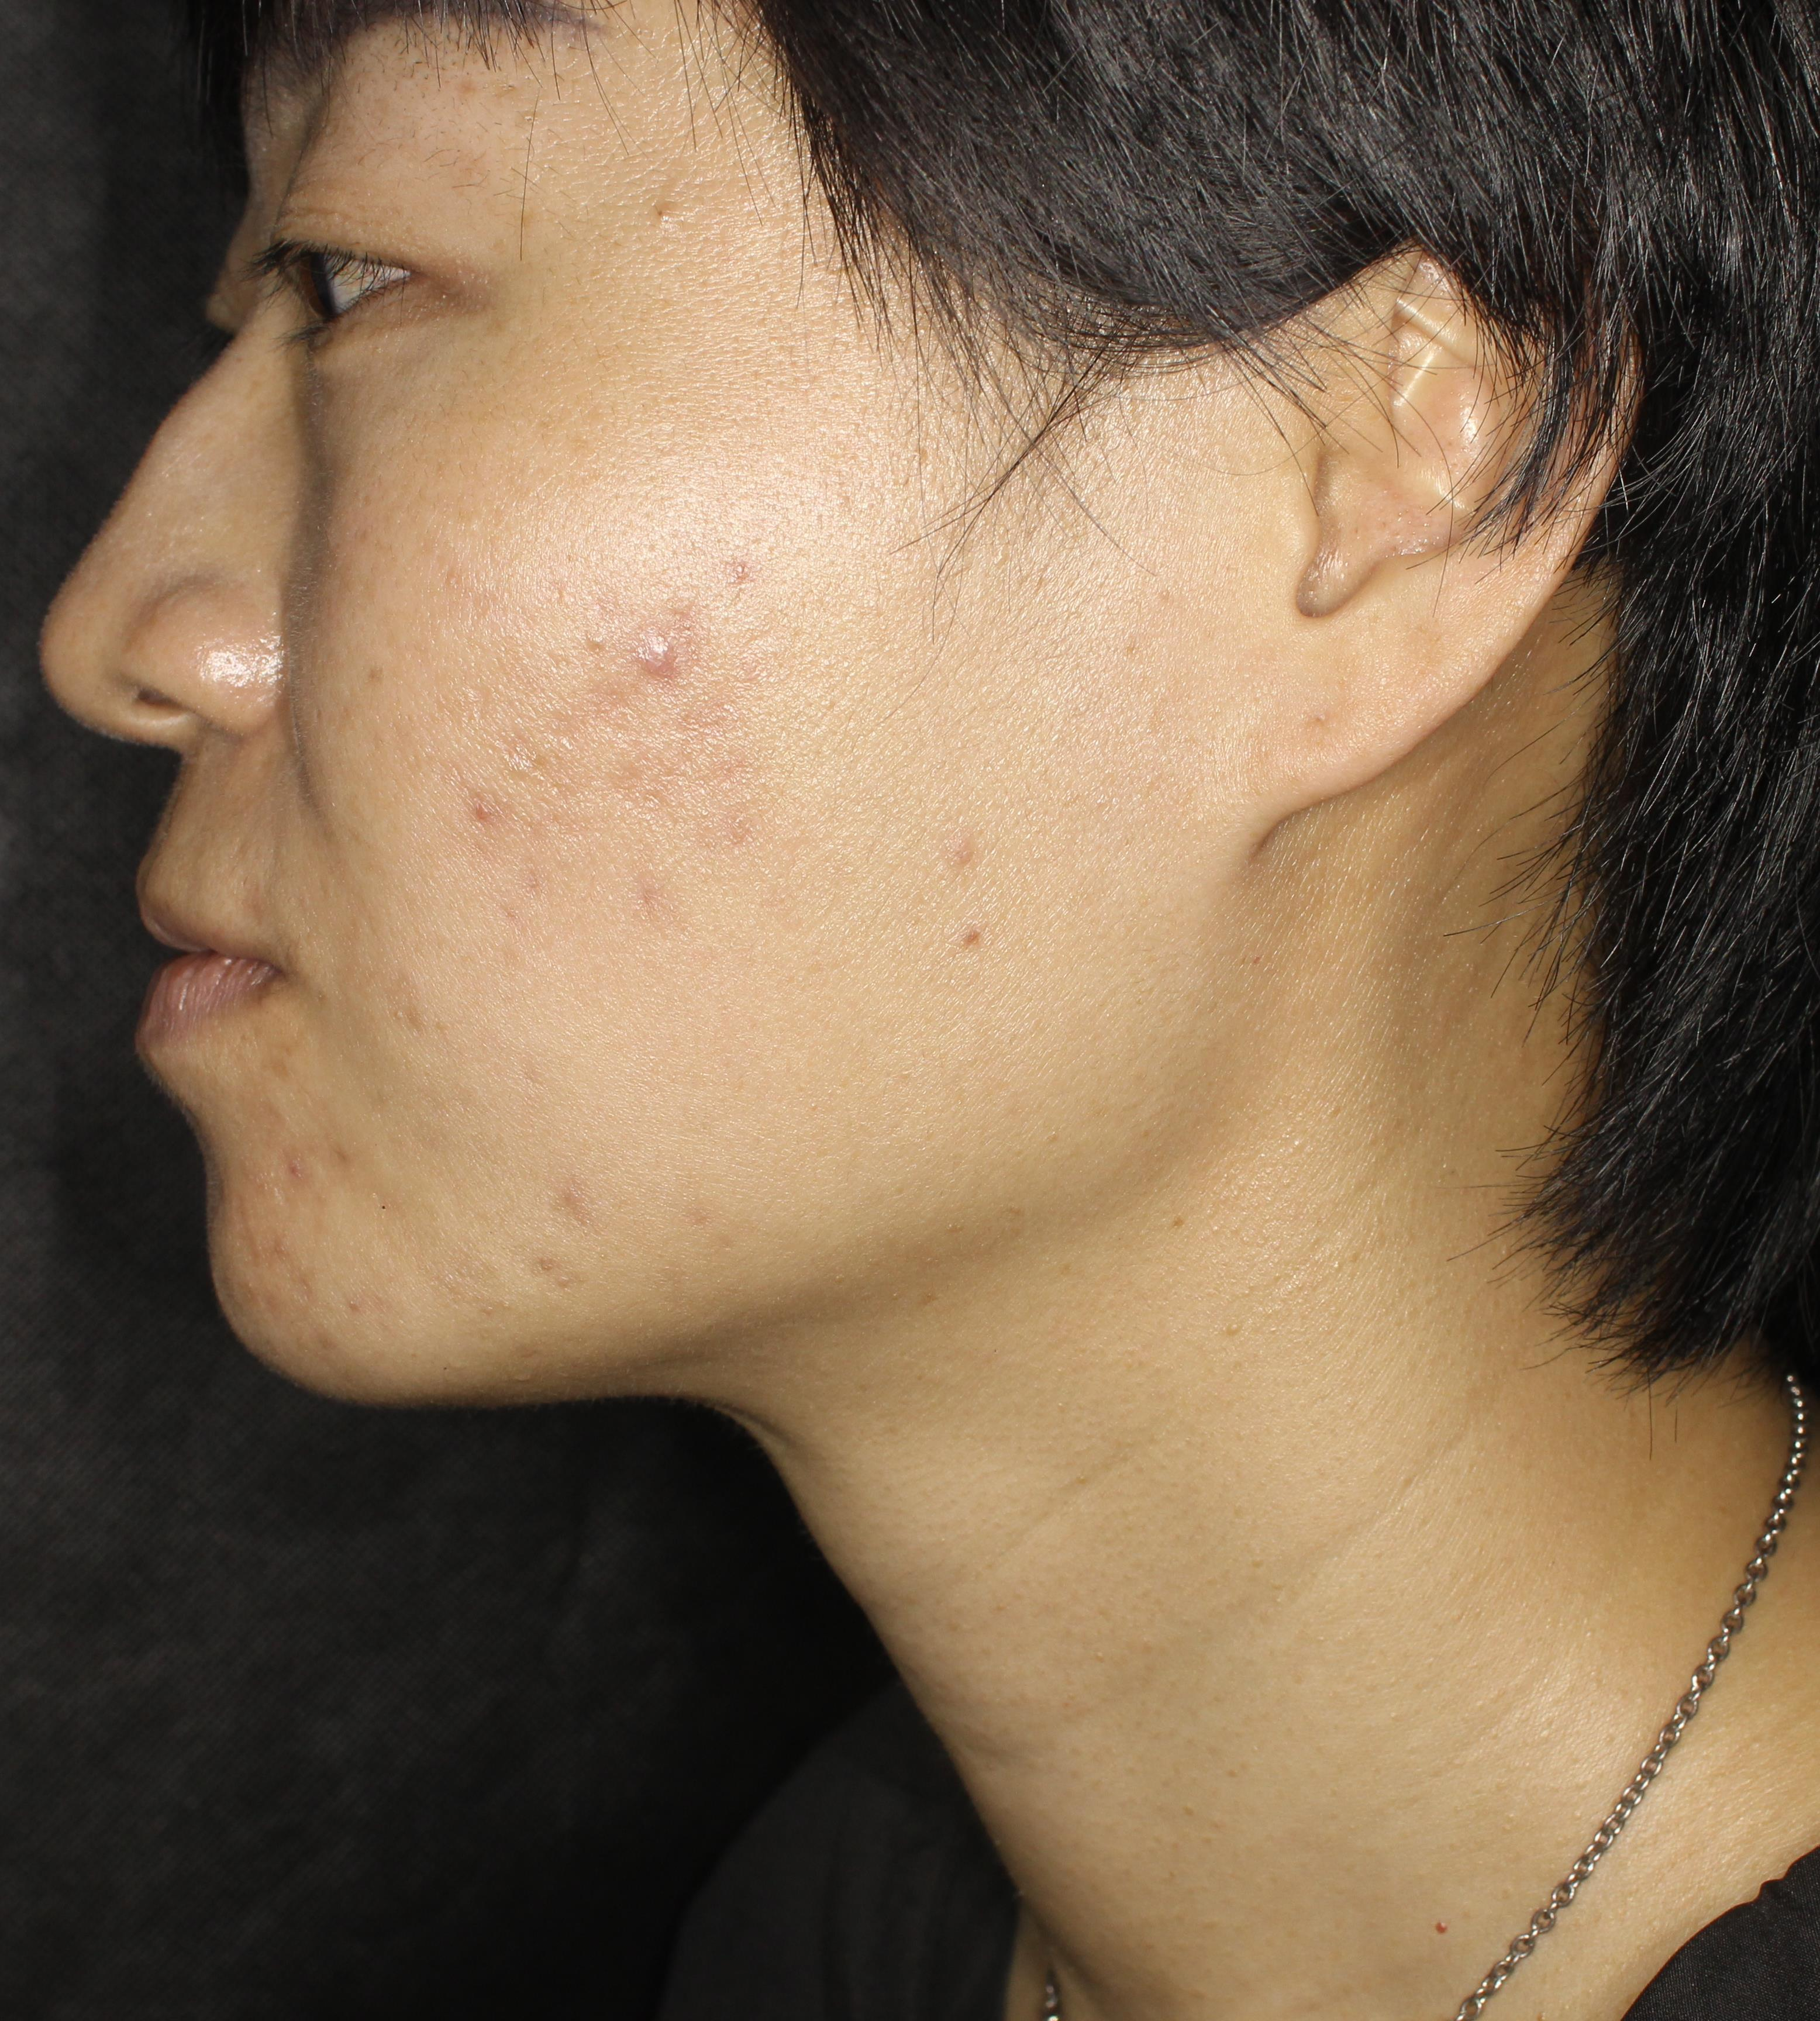fore: (265, 1110, 372, 1213), (611, 595, 710, 702)
